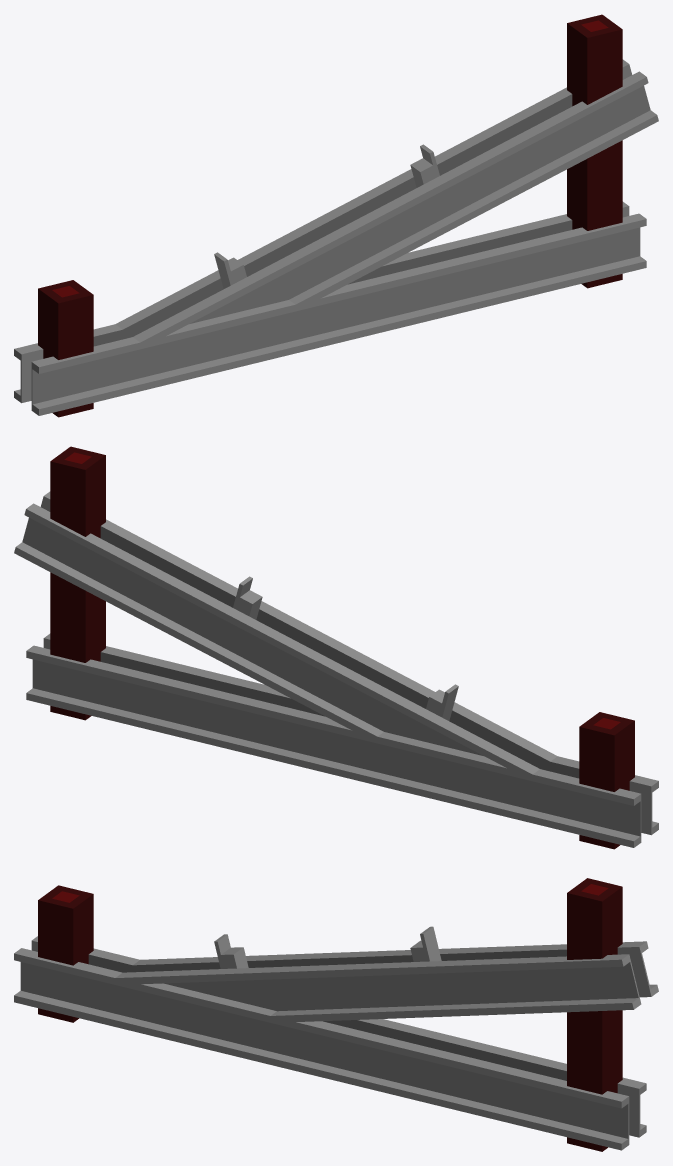
The model's file is rmc_support_bank_third.obj.
3 renders of one model, top to bottom at view 1: azimuth 30°, elevation 25°; view 2: azimuth 150°, elevation 25°; view 3: azimuth 330°, elevation 25°, orthographic.
Bounding box in the file's own units: 3.63 × 1.4 × 0.254.
